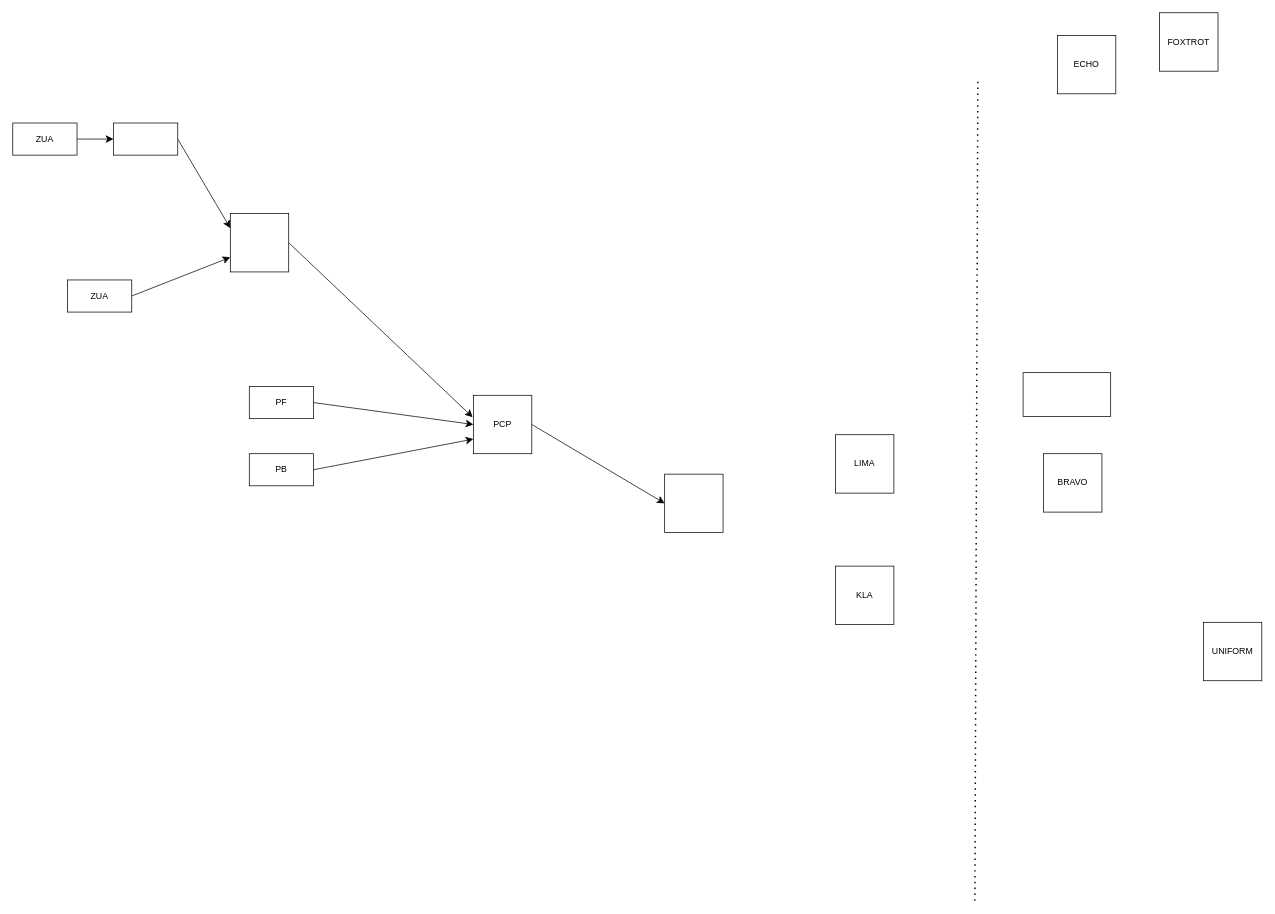
The diagram is 1275 pixels wide and 914 high, and some of its shapes have lost their labels. Here are the shapes that lost their labels. From the top down, the centre of each, then its label:
At (145,138): "ZUD".
At (259,242): "ZUJ".
At (693,503): "MMF".
